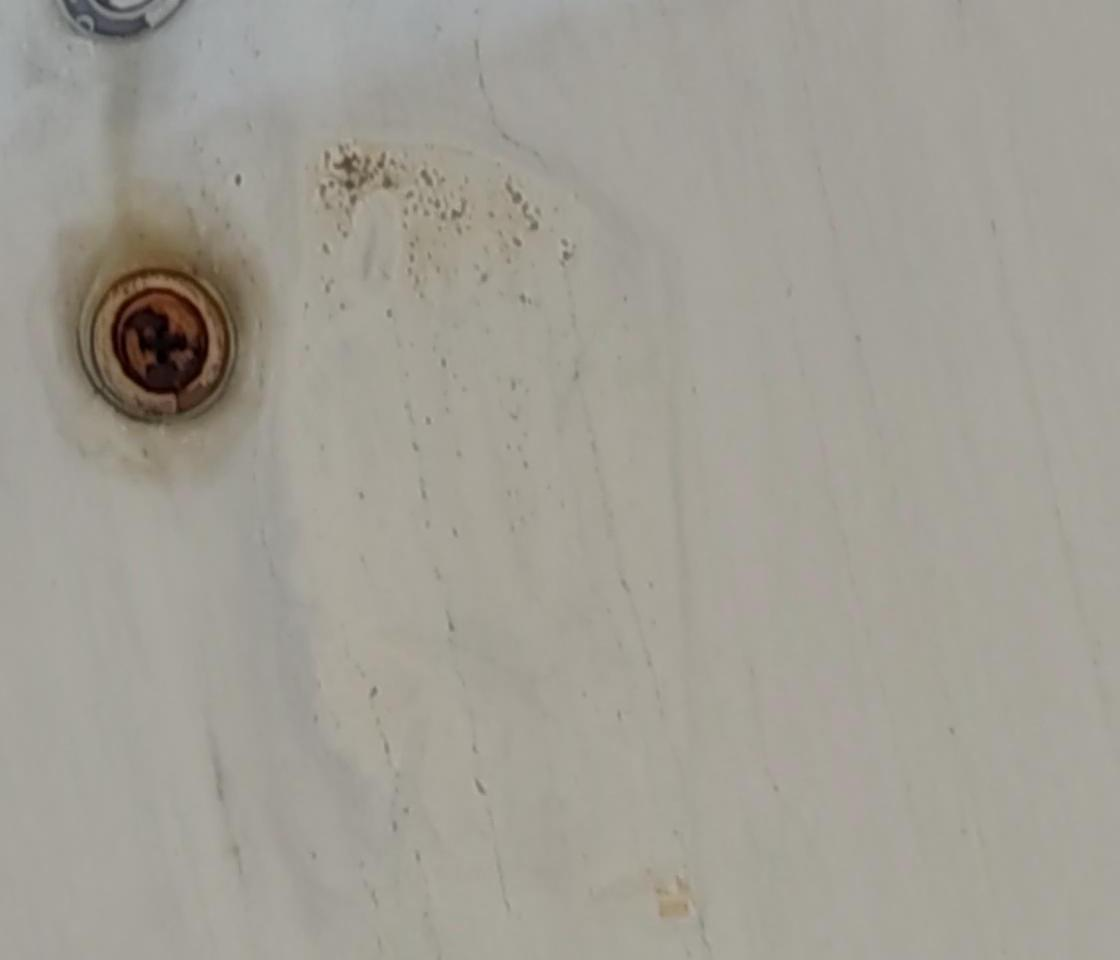rivet_damage: (80, 264, 247, 423)
